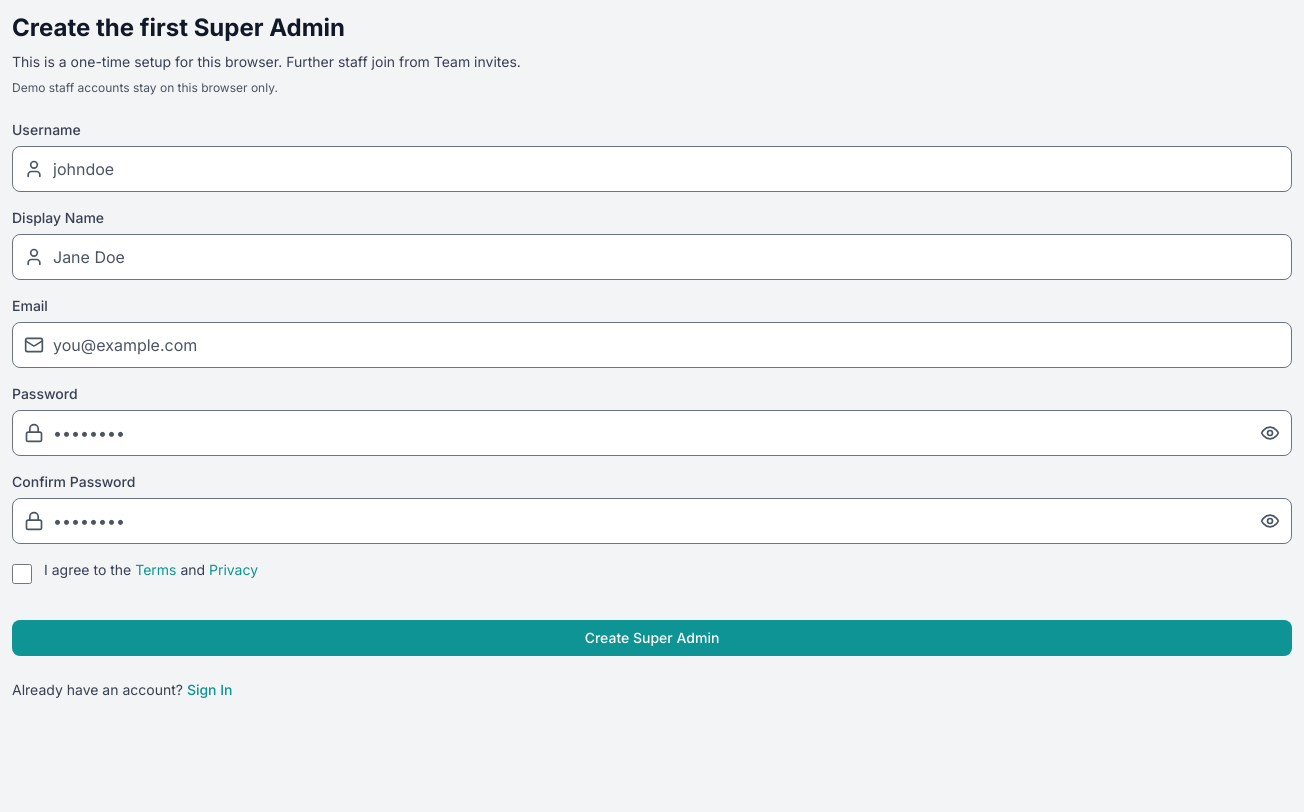
Test: SetupPage › blocks submit until terms are accepted
Expected: the heading "Create the first Super Admin" is shown, [12,13,345,42]
Type "newadmin" into the field labelled "Username".
click(652, 169); type("newadmin")  # box [12,146,1292,192]
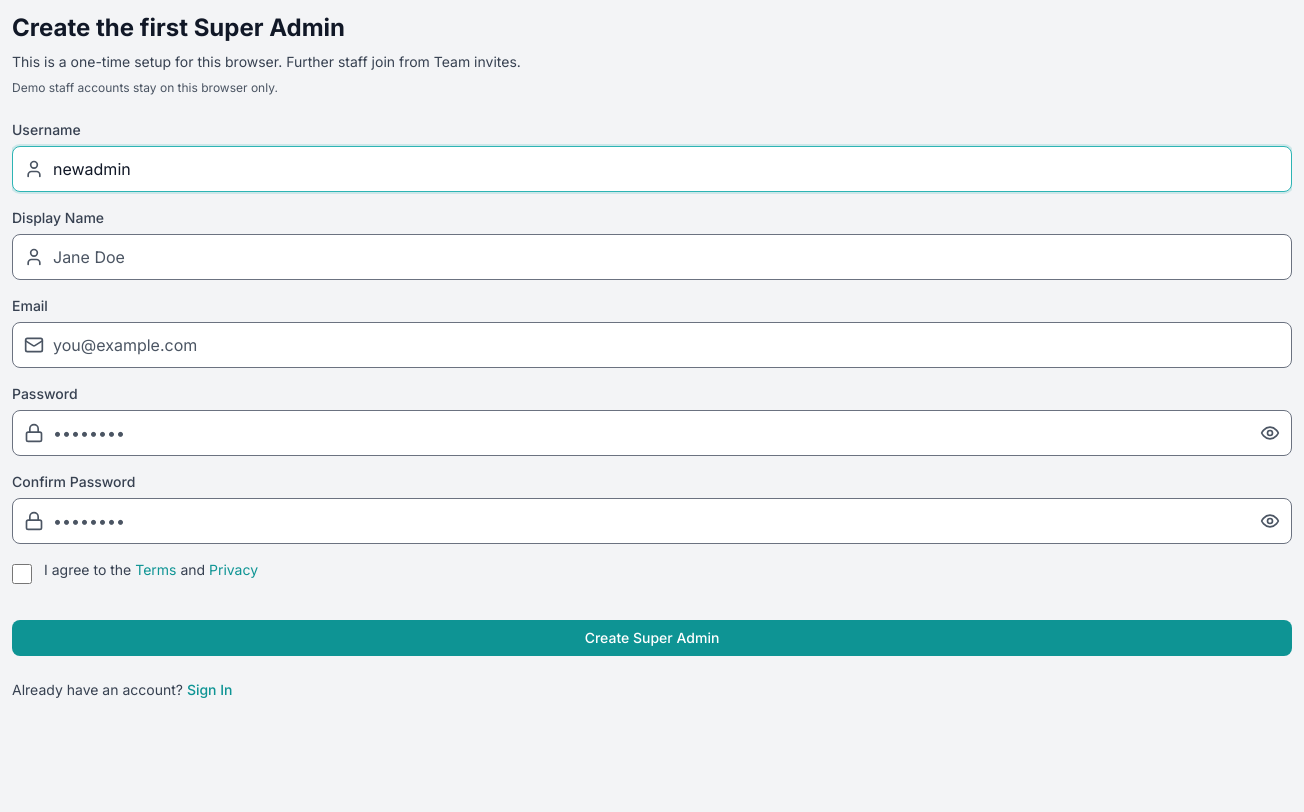
Type "New Admin" into the field labelled "Display Name".
click(652, 257); type("New Admin")  # box [12,234,1292,280]
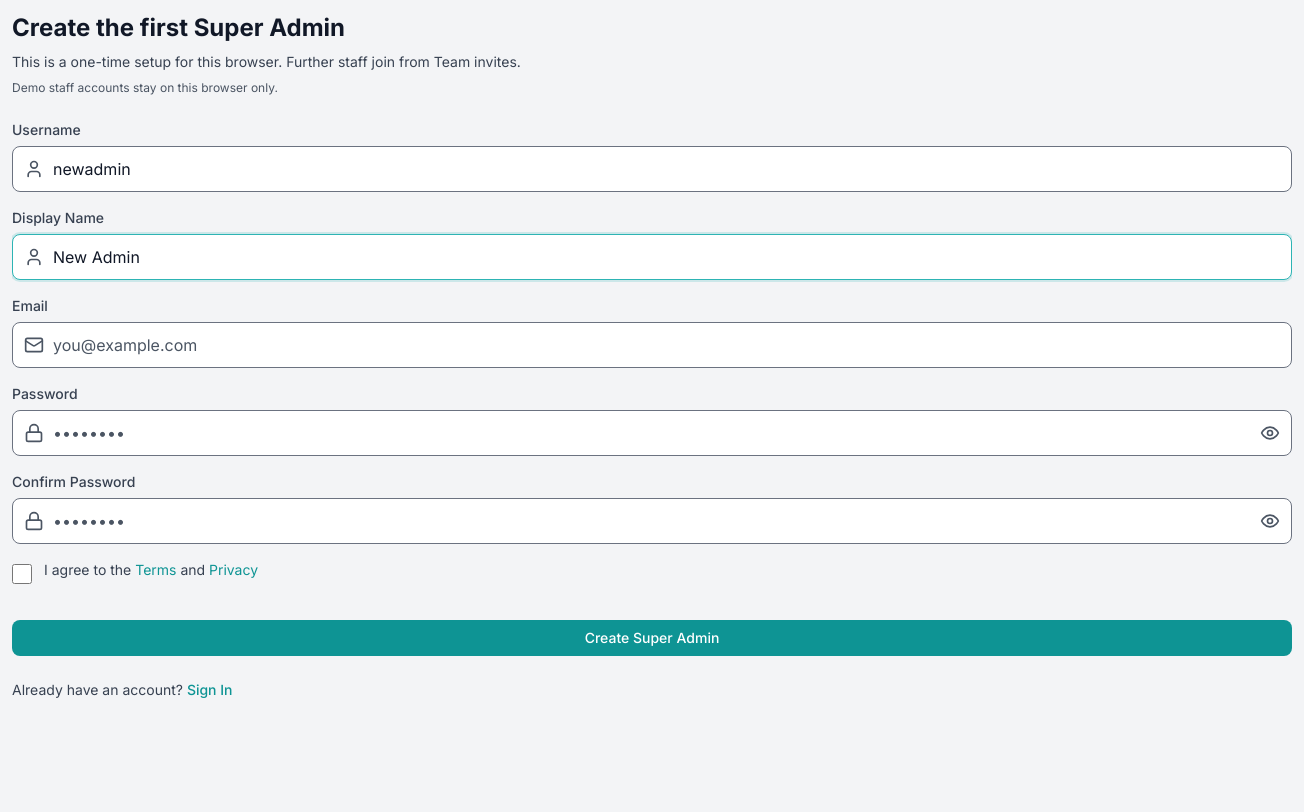
Type "new@softgate.test" into the field labelled "Email".
click(652, 345); type("new@softgate.test")  # box [12,322,1292,368]
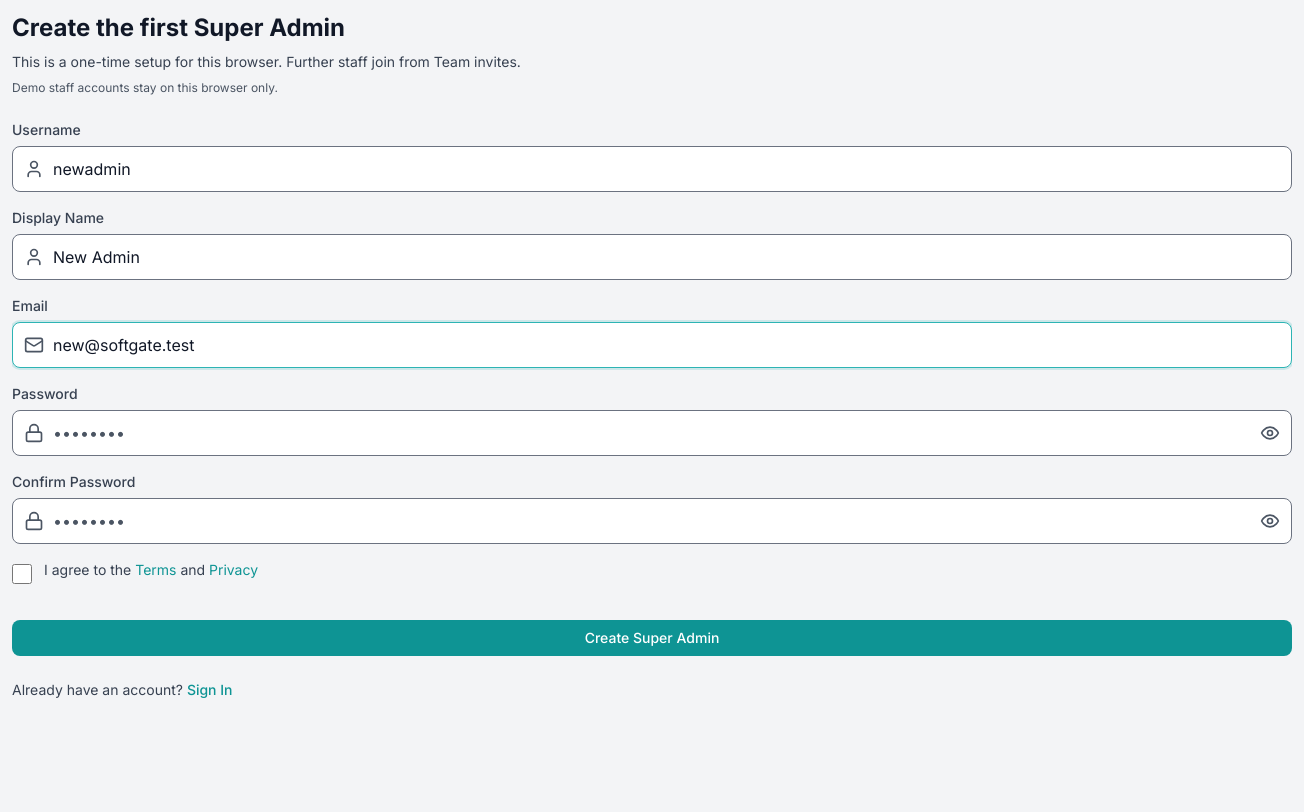
Type "secret12" into the password field with id "setup-password".
click(652, 433); type("secret12")  # box [12,410,1292,456]
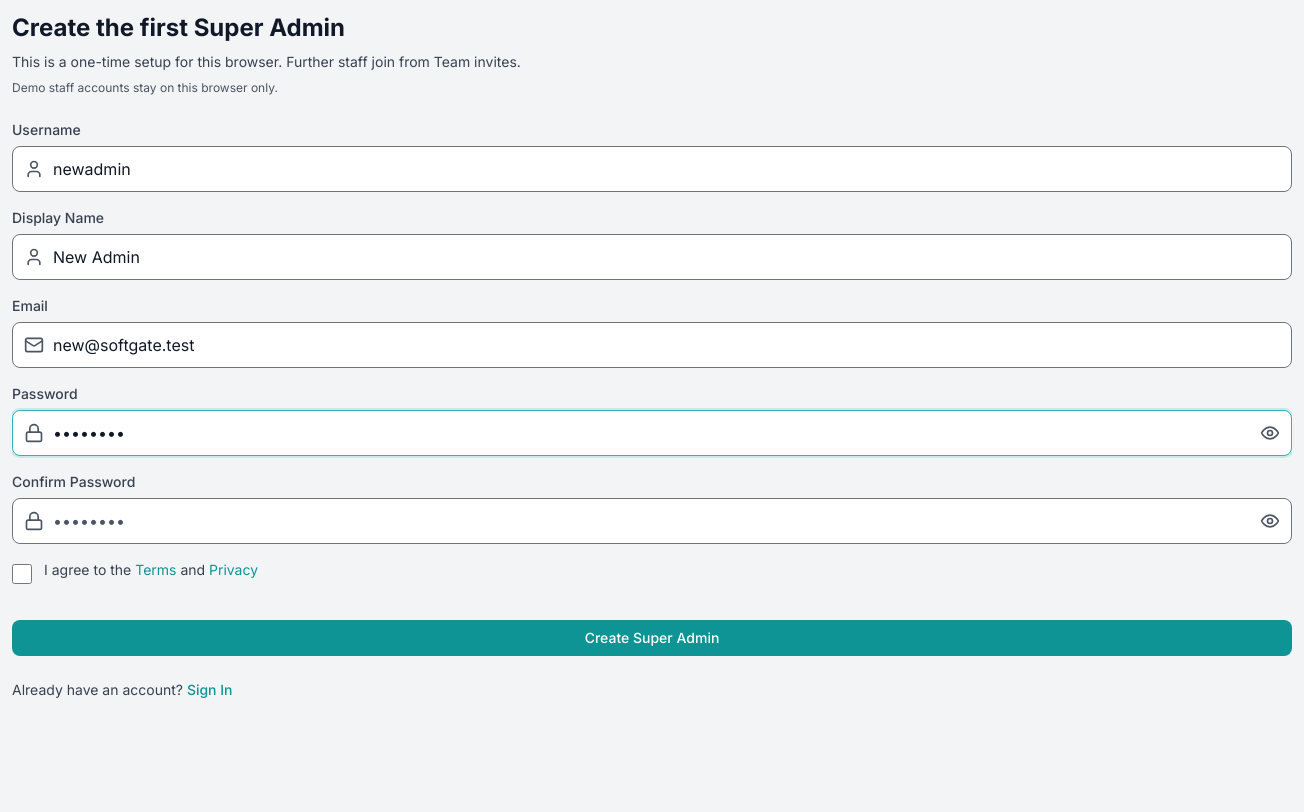
Type "secret12" into the password field with id "setup-confirm-password".
click(652, 521); type("secret12")  # box [12,498,1292,544]
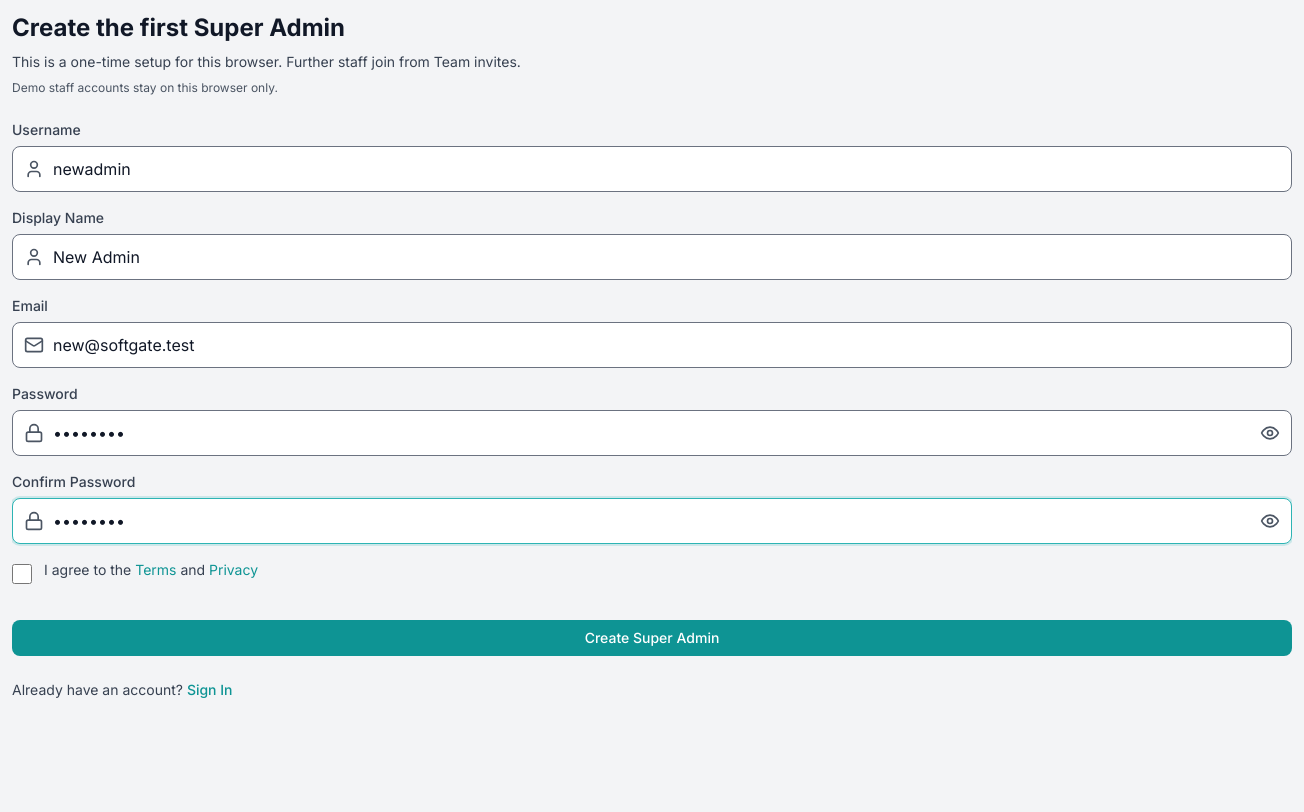
Click the button "Create Super Admin".
click(652, 638)  # box [12,620,1292,656]
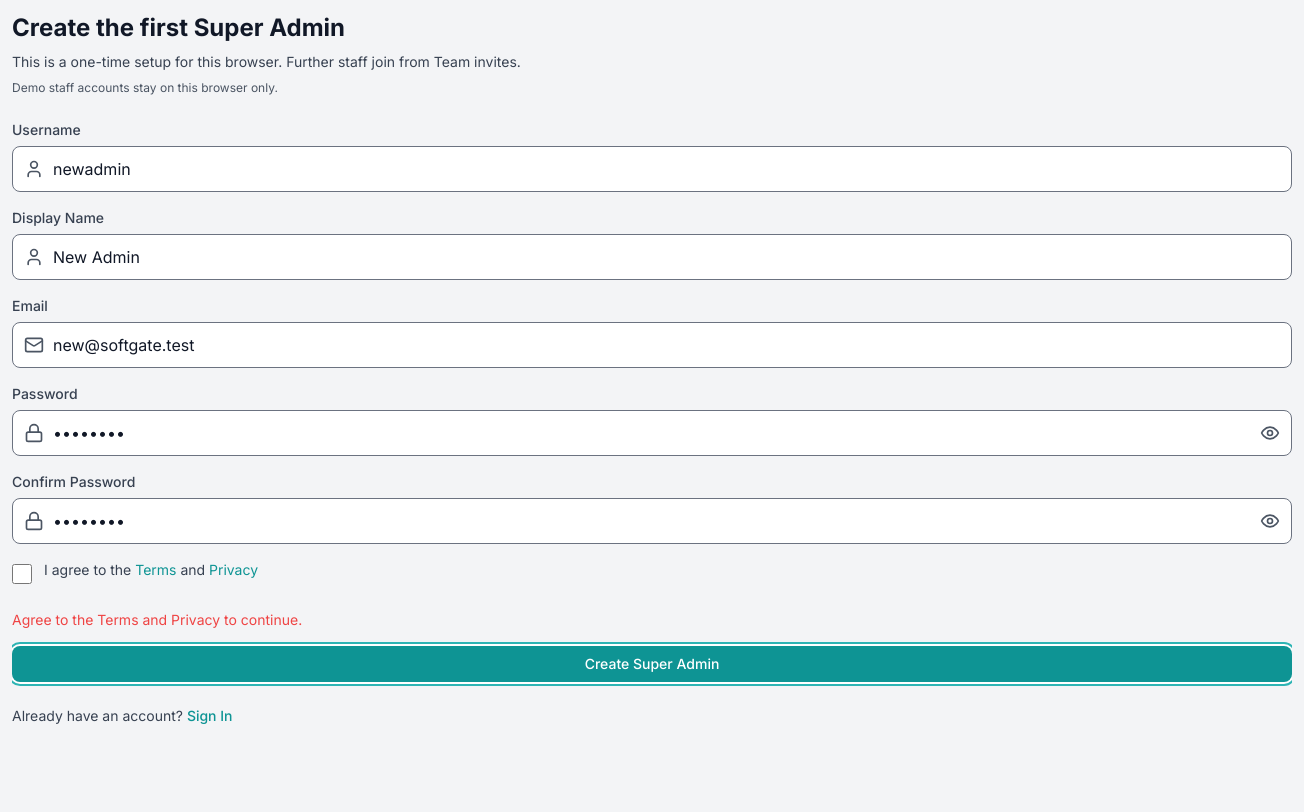
Now the text "Agree to the Terms and Privacy to continue." is shown, box [12,611,302,628]
